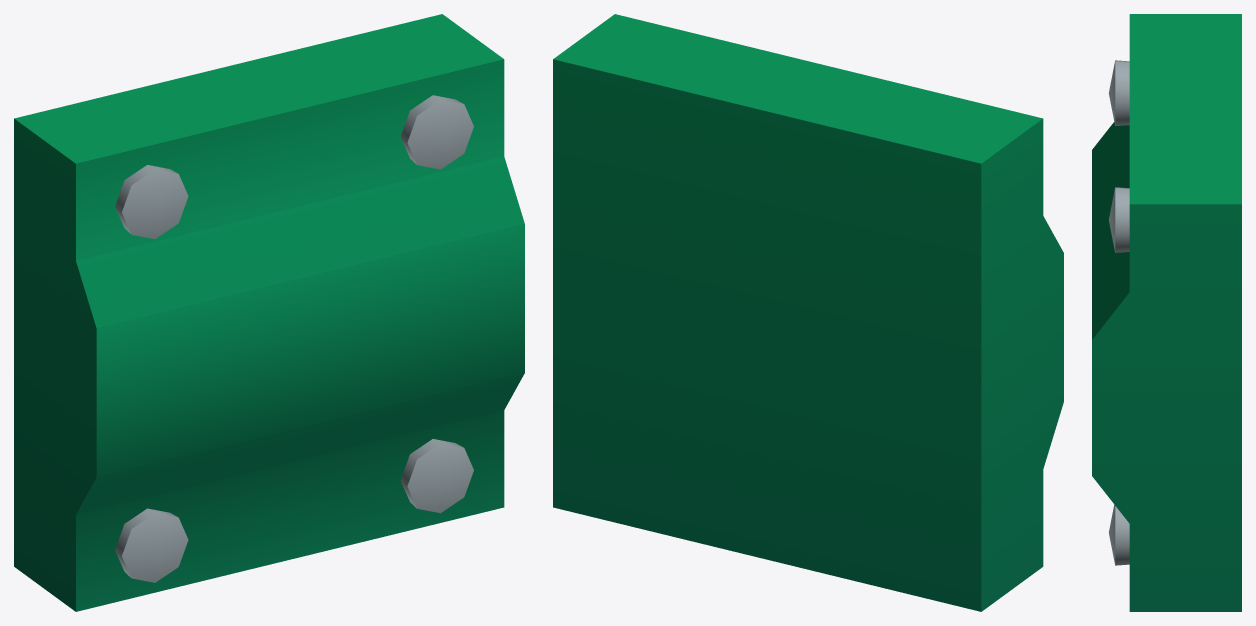
Rendered from bracing_medium_green.glb.
3 renders of one model, left to right at view 1: azimuth 30°, elevation 25°; view 2: azimuth 150°, elevation 25°; view 3: azimuth 270°, elevation 25°, orthographic. The views are drawn at different scales.
Parts seen in each view (by area): view 1: bracing_medium_green; view 2: bracing_medium_green; view 3: bracing_medium_green.
Boxes of the visible parts, x1,y1,x2,y2 form: bracing_medium_green: (14,14,524,611); bracing_medium_green: (553,14,1063,611); bracing_medium_green: (1092,14,1241,611).
Size of the model in its own units: 0.6 by 0.6 by 0.2.
Materials: 1 (1 with a texture image).
